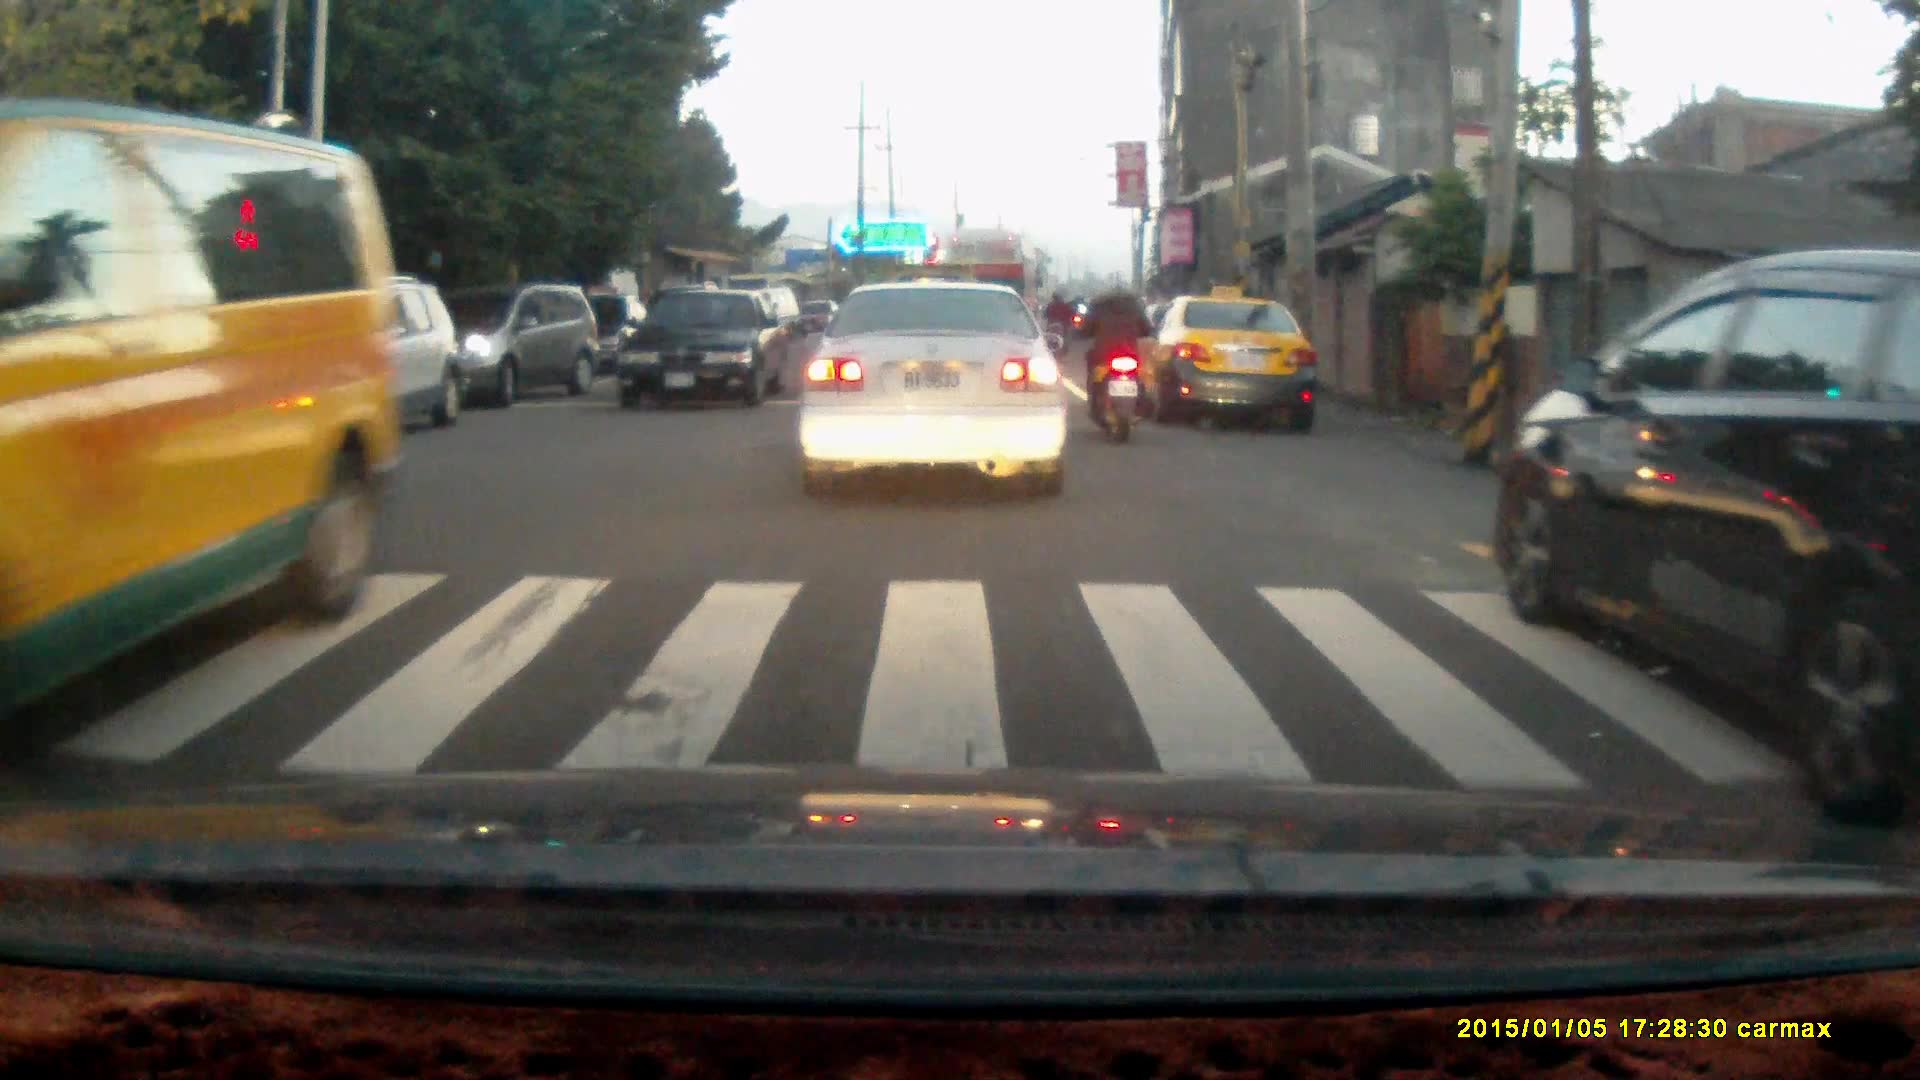rider: (1075, 269, 1157, 446)
vehicle: (10, 92, 403, 734), (1507, 253, 1920, 757), (799, 278, 1074, 502), (1138, 294, 1318, 431), (613, 286, 792, 415)
